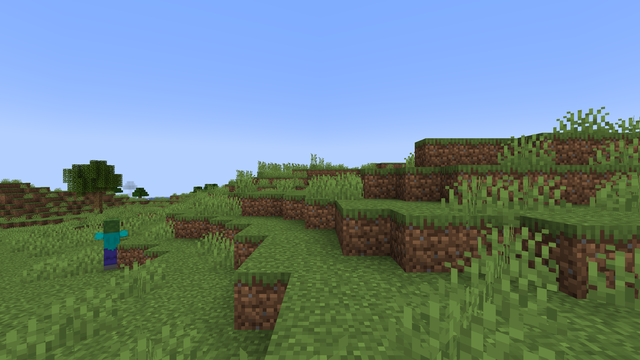zombies: (98, 219, 124, 270)
